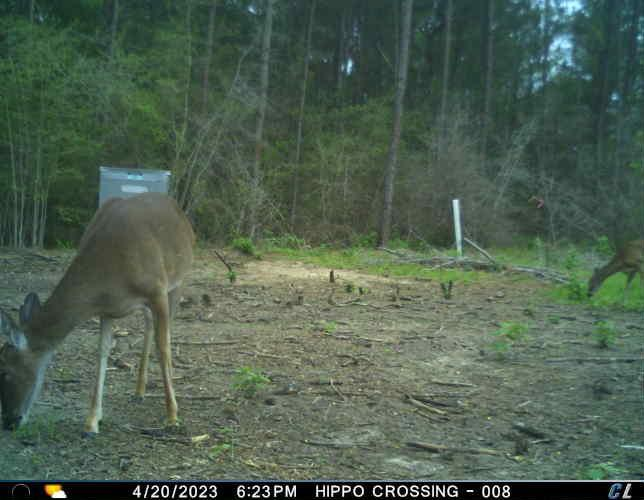Deer: (0, 189, 201, 447), (585, 236, 644, 301)
